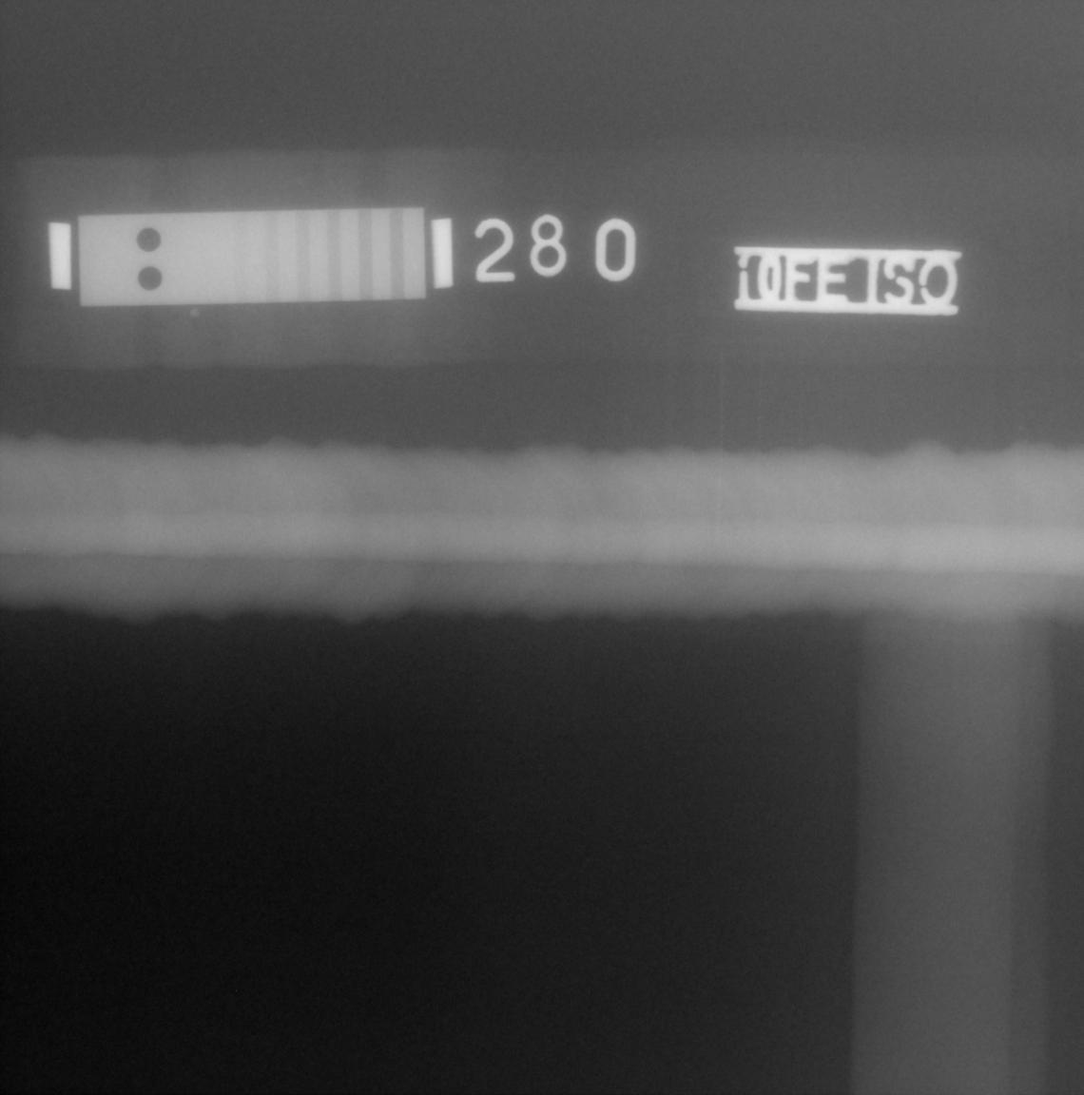Reference Standard 2: (78, 207, 426, 307)
